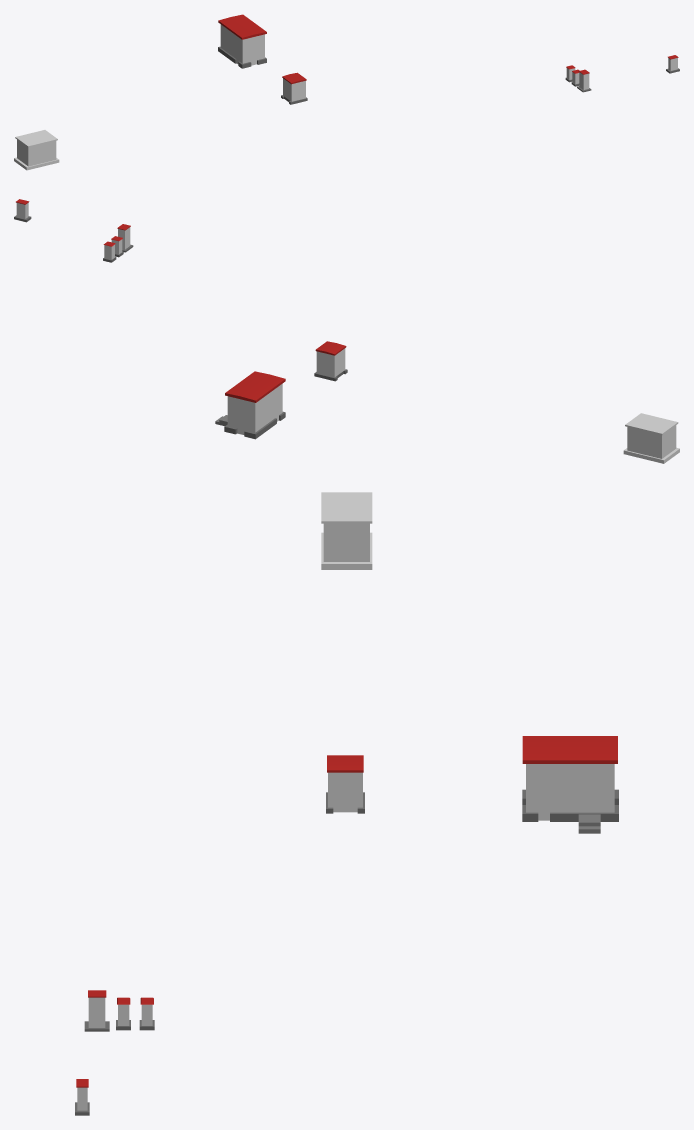
The picture shows the model from 3 angles, top to bottom: view 1: azimuth 30°, elevation 25°; view 2: azimuth 150°, elevation 25°; view 3: azimuth 270°, elevation 25°; orthographic projection. The views are drawn at different scales.
Parts seen in each view (by area): view 1: Box3030; view 2: Box3030; view 3: Box3030.
Part boxes in pixels (bbox=[...]): Box3030: bbox=[14, 14, 679, 170]; Box3030: bbox=[14, 199, 679, 463]; Box3030: bbox=[75, 492, 618, 1115].
Bounding box in the file's own units: 61.99 × 3.13 × 24.68.
